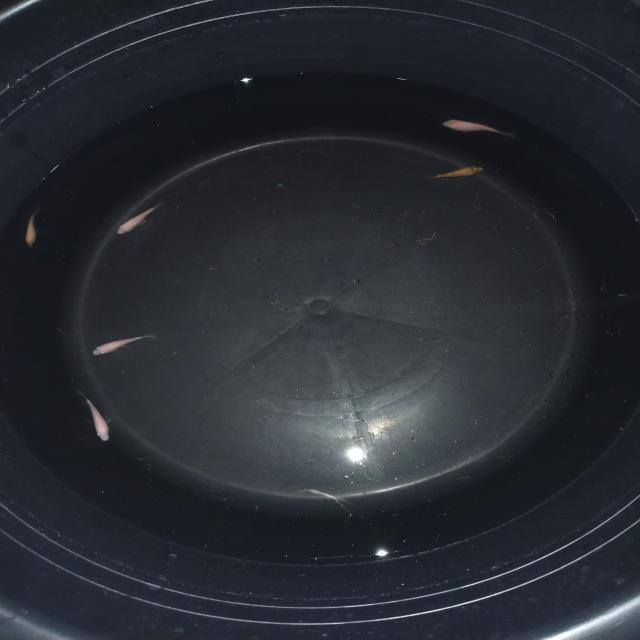nila: (440, 111, 522, 141), (74, 389, 116, 444), (114, 200, 170, 240), (88, 331, 152, 358), (424, 163, 487, 185), (23, 209, 42, 250)
